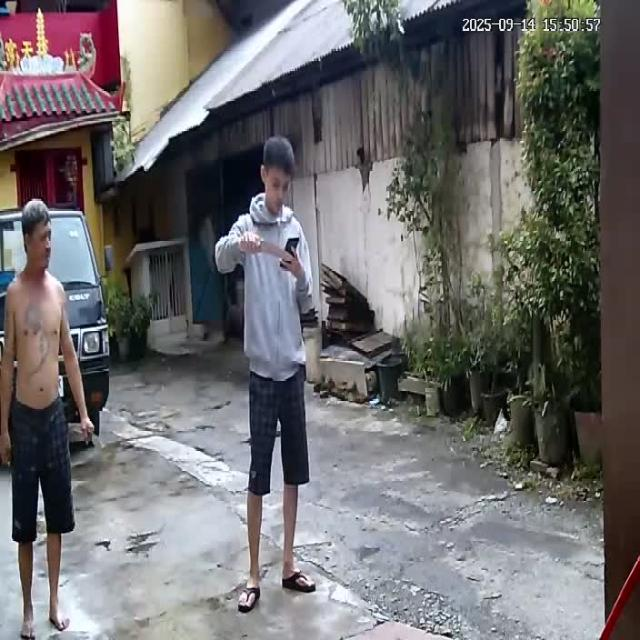senjata_tajam: (256, 240, 296, 263)
